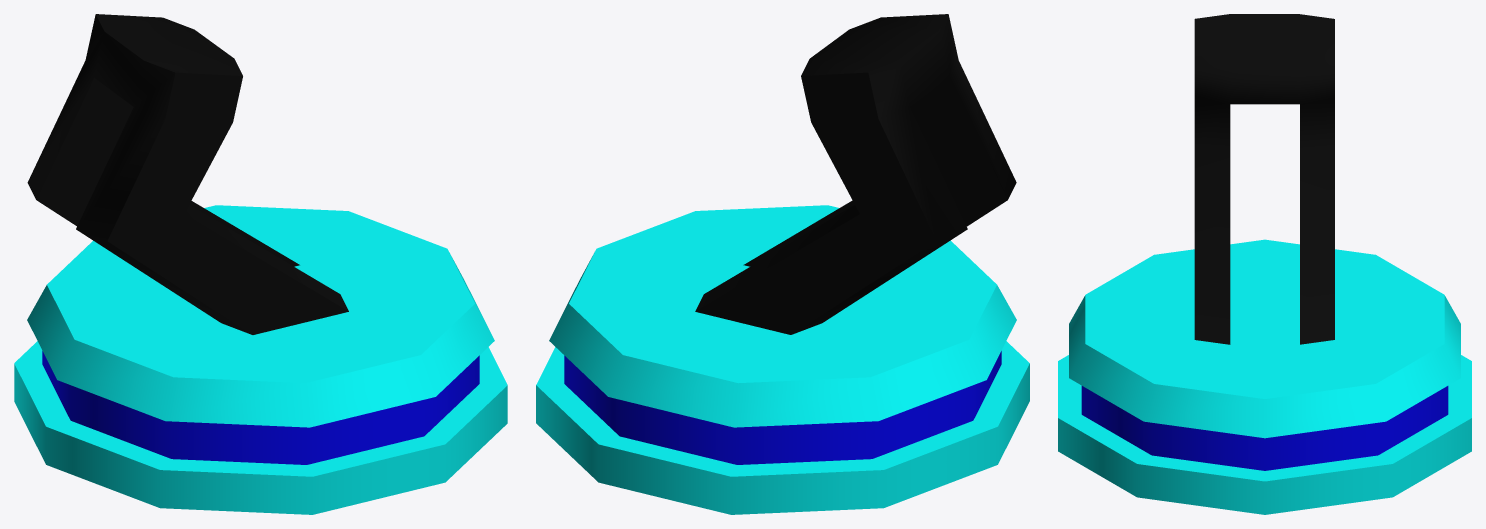
Rendered from Rotor.obj.
3 renders of one model, left to right at view 1: azimuth 30°, elevation 25°; view 2: azimuth 150°, elevation 25°; view 3: azimuth 270°, elevation 25°, orthographic. The views are drawn at different scales.
Visible parts, largest first — view 1: Rotor; view 2: Rotor; view 3: Rotor.
Part boxes in pixels (bbox=[...]): Rotor: bbox=[14, 14, 507, 514]; Rotor: bbox=[536, 14, 1029, 514]; Rotor: bbox=[1058, 14, 1471, 514].
Size of the model in its own units: 1.74 by 1.54 by 1.65.
